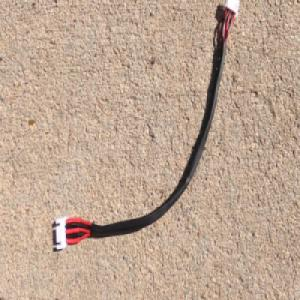Wire: (53, 0, 241, 256)
